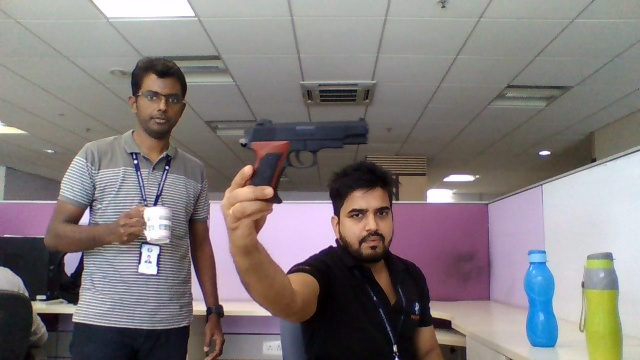gun: (254, 116, 373, 183)
